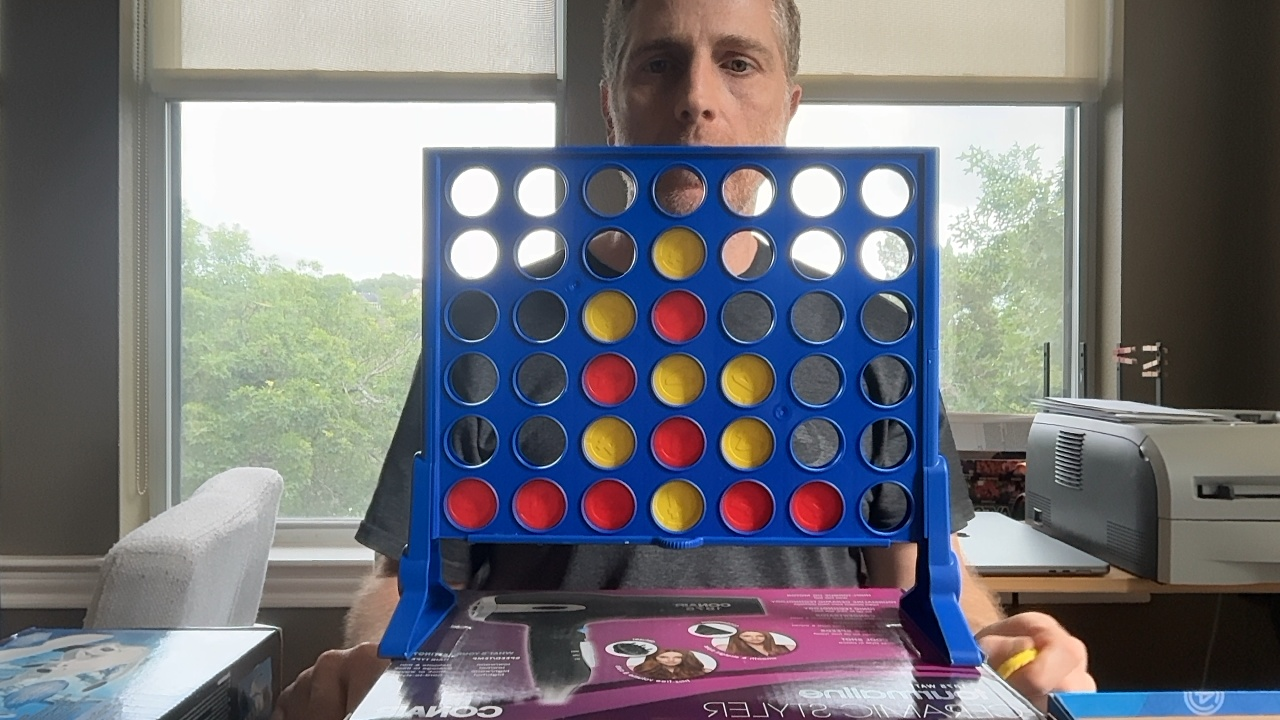red piece: (652, 416, 705, 469), (513, 478, 566, 531), (652, 290, 705, 342), (583, 353, 636, 405), (721, 480, 774, 532), (582, 479, 635, 531), (445, 478, 497, 530), (790, 481, 843, 532)
yellow piece: (652, 353, 705, 406), (652, 227, 706, 279), (651, 480, 704, 532), (721, 417, 773, 470), (721, 354, 774, 406), (583, 416, 635, 469), (583, 290, 636, 342)
